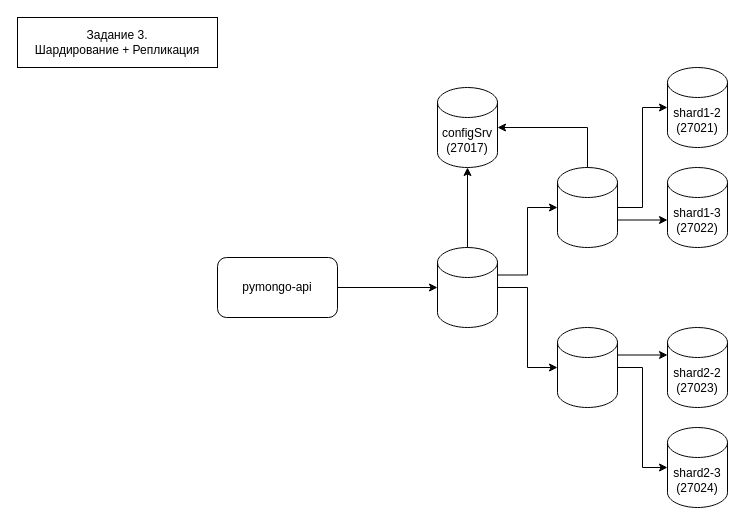
The diagram is 745 pixels wide and 525 high, and some of its shapes have lost their labels. Each missing label, with the centre of its shape:
"mongos-router (27020)" goes at [467,287].
"shard1-1 (27018)" goes at [587,207].
"shard2-1 (27019)" goes at [587,367].
